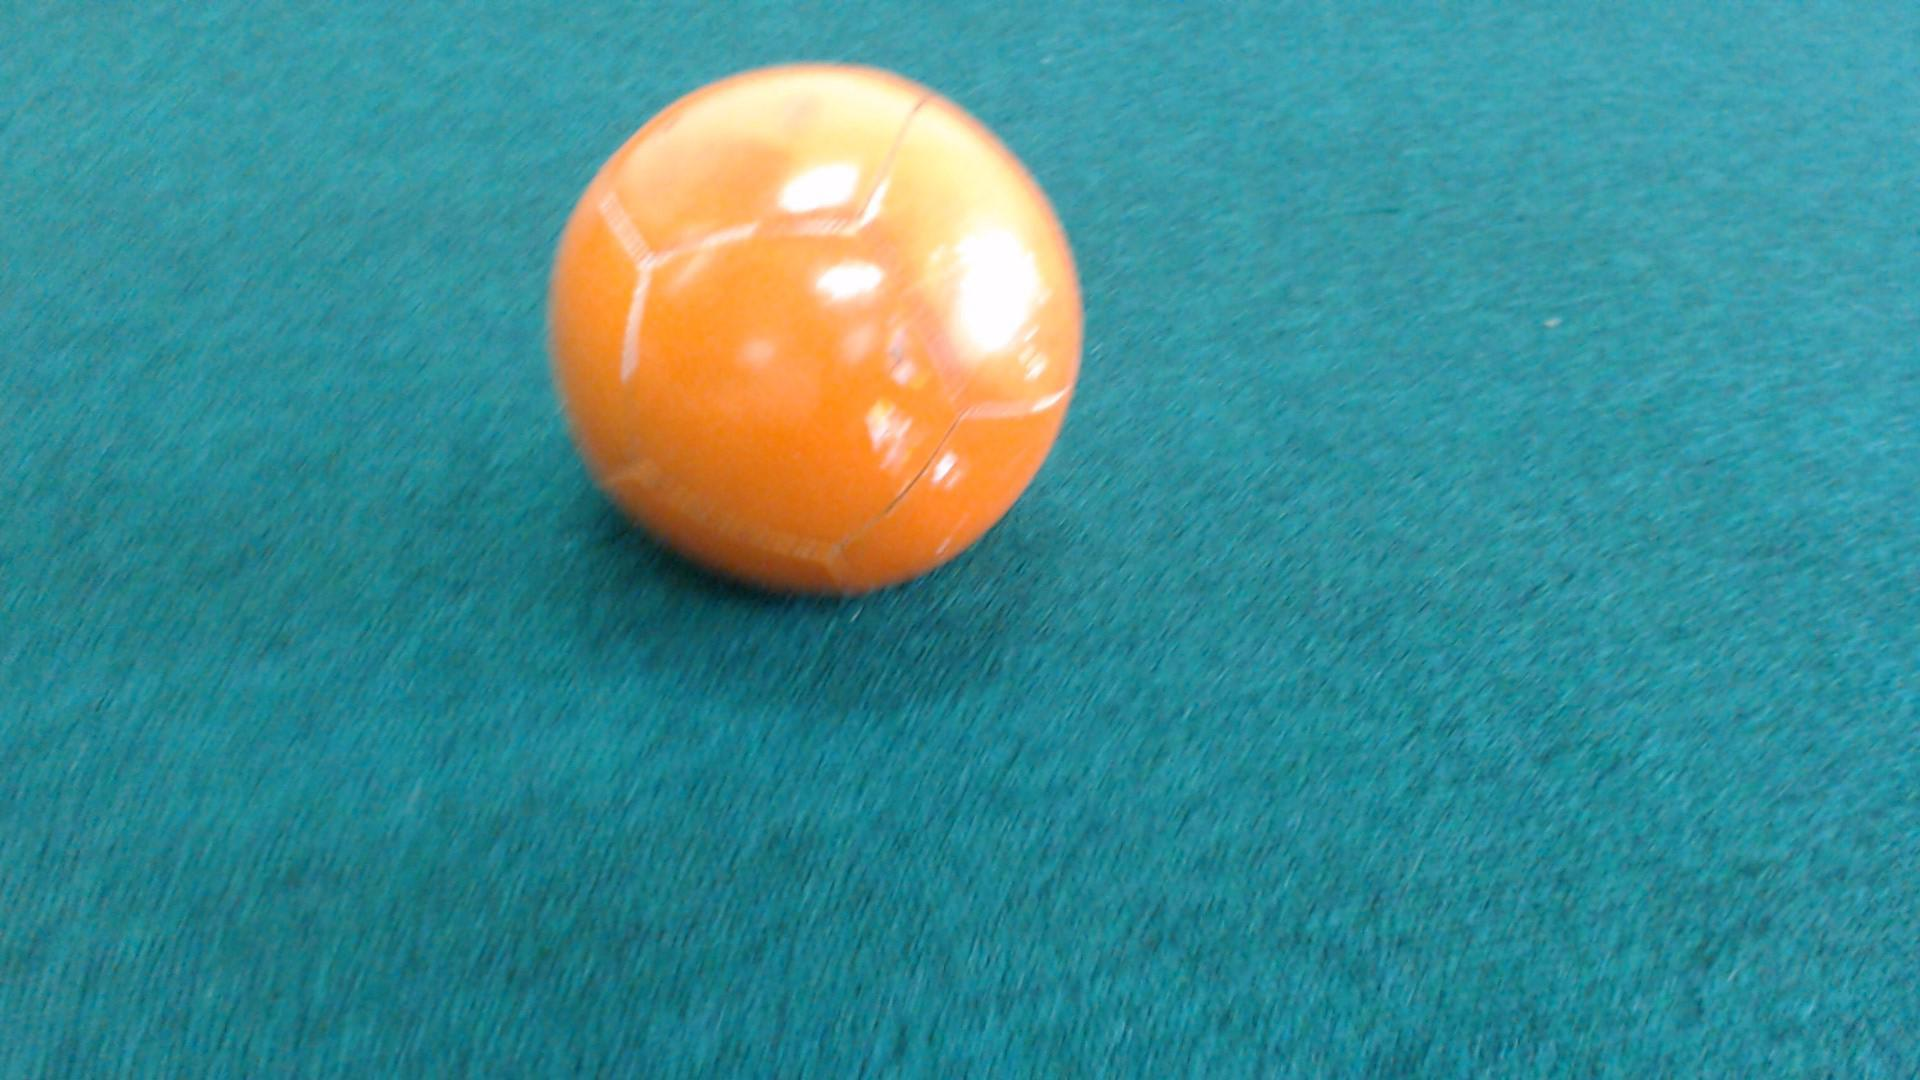bola: (518, 26, 1114, 615)
